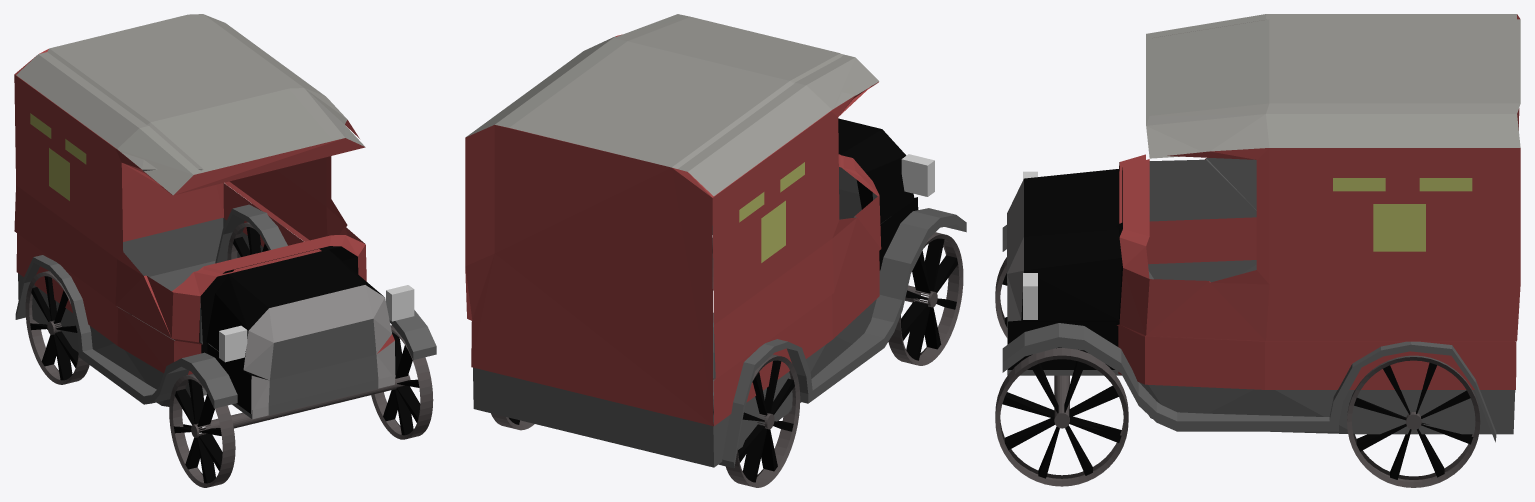
Rendered from mcnamara-dennis-van.dae.
3 views of the same model, side by side, from view 1: azimuth 30°, elevation 25°; view 2: azimuth 150°, elevation 25°; view 3: azimuth 270°, elevation 25° (orthographic). The views are drawn at different scales.
Visible parts, largest first — view 1: Cube_002, Cylinder_008, Cube, Cylinder, Cube_001, Plane_001; view 2: Cube_002, Cube, Cylinder_008, Cylinder, Plane_001, Cube_001; view 3: Cube_002, Cube, Cylinder_008, Cylinder, Plane, Cube_001.
Boxes of the visible parts, left/top/right/bottom form: Cube_002: left=14, top=14, right=395, bottom=419; Cylinder_008: left=169, top=325, right=433, bottom=487; Cube: left=15, top=204, right=436, bottom=408; Cylinder: left=25, top=222, right=268, bottom=384; Cube_001: left=219, top=285, right=414, bottom=362; Plane_001: left=30, top=113, right=86, bottom=200; Cube_002: left=465, top=14, right=918, bottom=467; Cube: left=713, top=208, right=966, bottom=468; Cylinder_008: left=712, top=232, right=963, bottom=365; Cylinder: left=491, top=354, right=800, bottom=487; Plane_001: left=739, top=162, right=804, bottom=262; Cube_001: left=901, top=154, right=934, bottom=196; Cube_002: left=1007, top=14, right=1520, bottom=434; Cube: left=1002, top=225, right=1496, bottom=442; Cylinder_008: left=995, top=257, right=1128, bottom=486; Cylinder: left=1347, top=355, right=1480, bottom=487; Plane: left=1333, top=178, right=1472, bottom=251; Cube_001: left=1023, top=171, right=1037, bottom=319.
Bounding box in the file's own units: 1.39 × 2.29 × 1.74.
